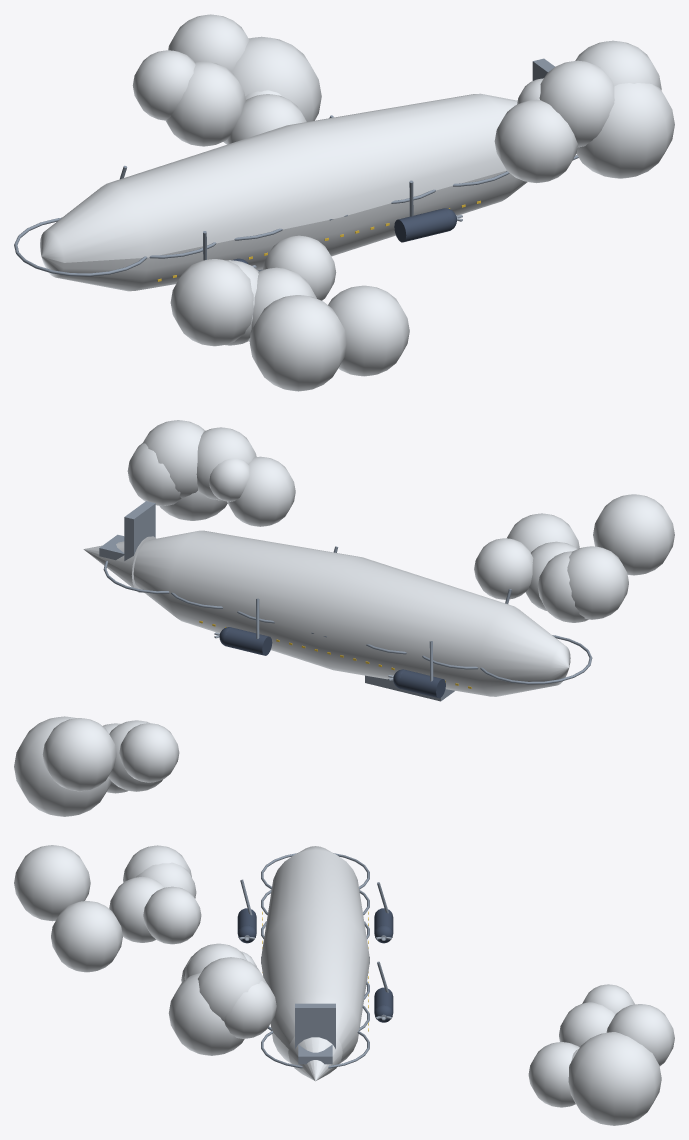
The model's file is mega_sky_airship_mobile_safe.gltf.
3 views of the same model, one above another, from view 1: azimuth 30°, elevation 25°; view 2: azimuth 150°, elevation 25°; view 3: azimuth 270°, elevation 25° (orthographic). The views are drawn at different scales.
Bounding box in the file's own units: 317 × 131 × 387.
